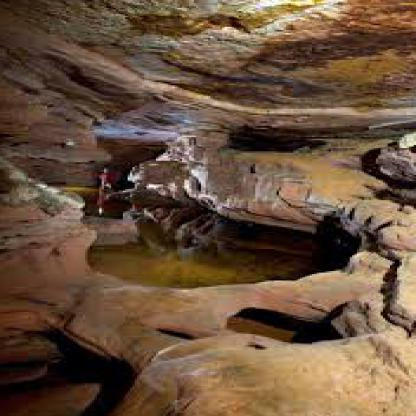Metamorphic_Quartize: (166, 115, 378, 229), (134, 328, 414, 414), (94, 284, 409, 358)
